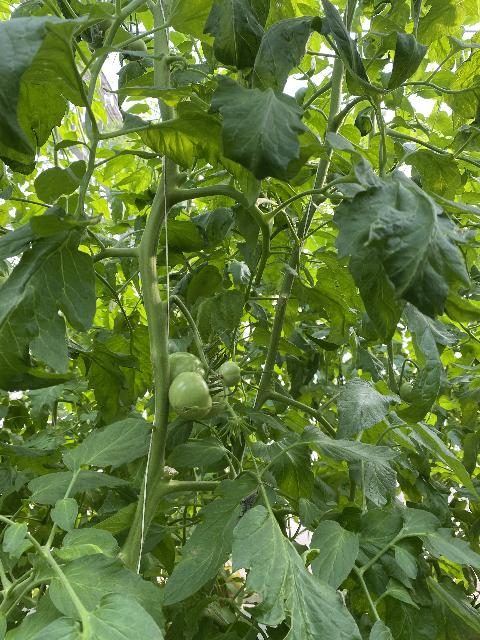b_green: (168, 371, 212, 420), (169, 352, 212, 386), (197, 375, 229, 420), (219, 361, 241, 387), (127, 39, 147, 61), (386, 376, 407, 395), (399, 382, 415, 404)
